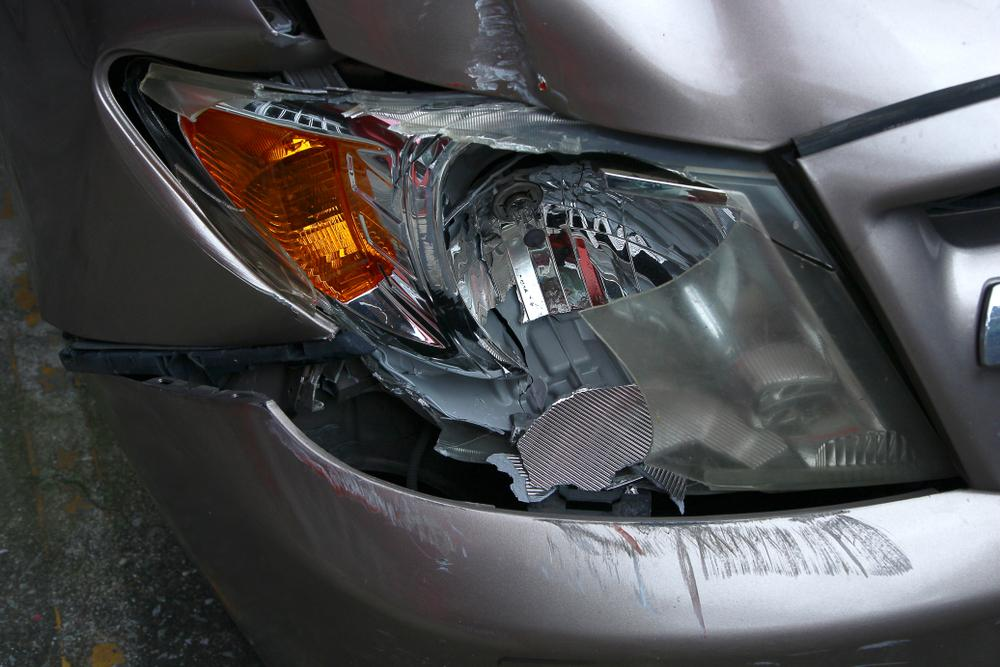dent: (459, 0, 813, 122)
lamp broken: (124, 56, 956, 514)
scratch: (265, 414, 479, 578), (532, 509, 926, 595)
